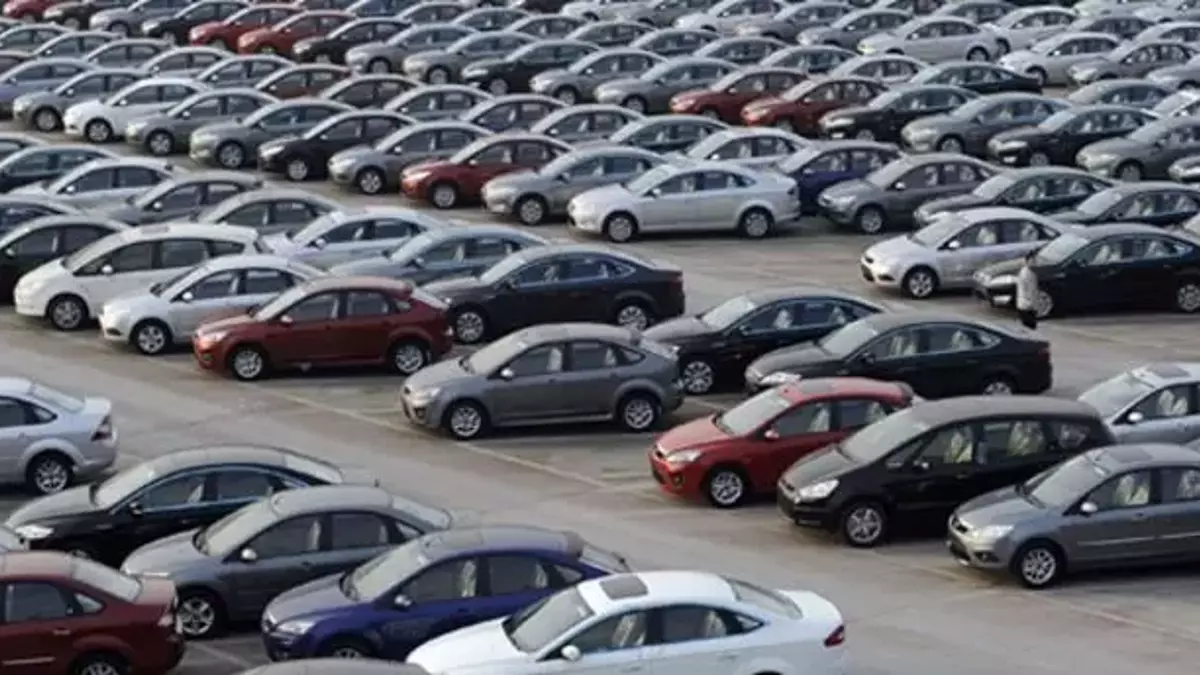Car: (776, 396, 1116, 548), (121, 485, 454, 639), (261, 525, 635, 662), (406, 571, 847, 675), (5, 444, 380, 565), (946, 443, 1200, 589), (649, 377, 917, 508), (399, 323, 684, 440), (12, 222, 274, 331), (192, 276, 452, 381), (743, 311, 1053, 399), (424, 245, 687, 346), (644, 288, 888, 395), (98, 254, 327, 356), (0, 551, 186, 675), (972, 223, 1200, 318), (857, 205, 1078, 301), (567, 158, 801, 243), (817, 150, 1013, 233), (480, 146, 670, 227), (323, 223, 555, 288), (0, 376, 118, 494), (912, 165, 1122, 231), (398, 132, 575, 209), (328, 119, 496, 195), (189, 97, 358, 170), (900, 92, 1076, 161), (257, 109, 422, 182), (987, 103, 1167, 169), (750, 140, 903, 215), (265, 206, 443, 270), (123, 85, 281, 157), (817, 83, 984, 151), (0, 214, 129, 302), (61, 76, 214, 143), (88, 170, 266, 227), (1078, 362, 1200, 444), (739, 76, 891, 141), (11, 66, 156, 133), (7, 157, 189, 209), (591, 57, 743, 114), (667, 67, 810, 127), (170, 188, 339, 238), (1074, 114, 1200, 181), (528, 45, 668, 105), (458, 38, 600, 97), (402, 29, 539, 85), (994, 29, 1127, 86), (1046, 180, 1200, 229), (1063, 39, 1200, 94), (344, 23, 479, 77), (857, 16, 1000, 65), (571, 113, 732, 154), (291, 16, 417, 67), (188, 2, 309, 55), (238, 8, 358, 61), (0, 55, 99, 118), (660, 126, 817, 165), (0, 145, 119, 193), (732, 2, 859, 45), (797, 8, 920, 51), (141, 0, 252, 47), (979, 5, 1083, 55), (908, 60, 1043, 96), (528, 104, 649, 143), (452, 93, 573, 132), (672, 0, 794, 38), (382, 83, 497, 122), (811, 53, 933, 86), (317, 73, 428, 109), (88, 0, 191, 38), (254, 63, 356, 100), (668, 35, 793, 65), (0, 195, 88, 236), (740, 44, 860, 74), (194, 54, 299, 88), (140, 45, 237, 80), (1064, 78, 1177, 108), (43, 0, 140, 33), (607, 0, 721, 28), (235, 659, 432, 675), (83, 37, 178, 69), (1066, 12, 1158, 44), (625, 27, 722, 57), (564, 18, 657, 48), (29, 31, 126, 58), (500, 13, 596, 39), (920, 0, 1020, 24), (0, 21, 76, 52), (1144, 52, 1200, 90), (449, 7, 532, 31), (558, 0, 647, 21), (1131, 21, 1200, 48), (394, 0, 472, 23), (0, 0, 70, 24), (344, 0, 431, 19), (1132, 0, 1200, 24), (1151, 88, 1200, 118), (867, 0, 947, 18), (1073, 0, 1157, 17), (0, 132, 47, 161), (1161, 211, 1200, 244), (1167, 155, 1200, 190), (508, 0, 573, 15), (0, 49, 37, 74), (292, 0, 359, 10), (0, 16, 27, 35), (831, 0, 876, 8), (469, 0, 508, 9)
